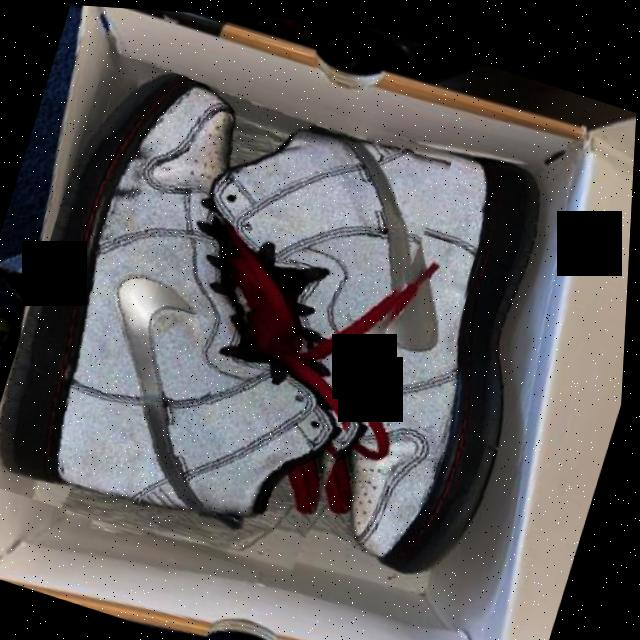shoe: (0, 27, 462, 592), (122, 58, 591, 596)
